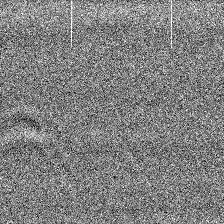Utility: (1, 106, 66, 175)
